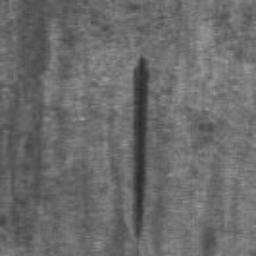Scratches: (131, 54, 150, 241)
